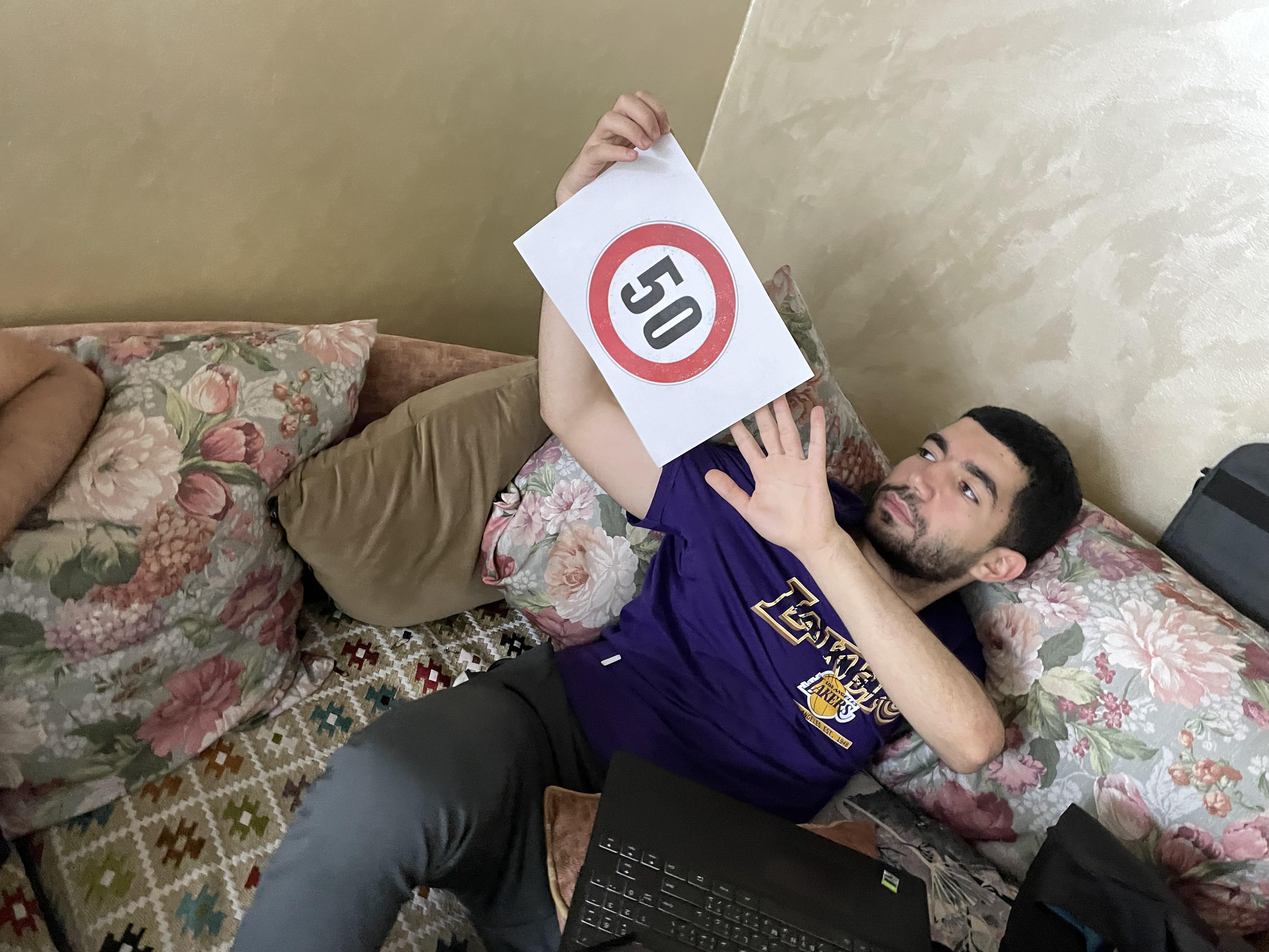50-Speed: (583, 216, 737, 385)
